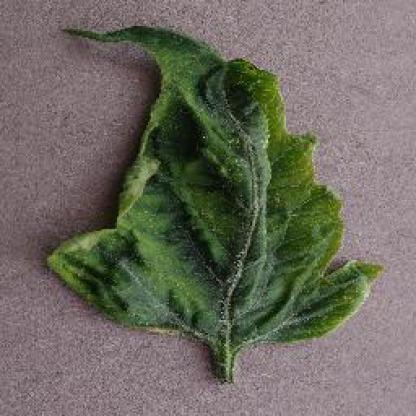bad leaf: (34, 9, 370, 389)
